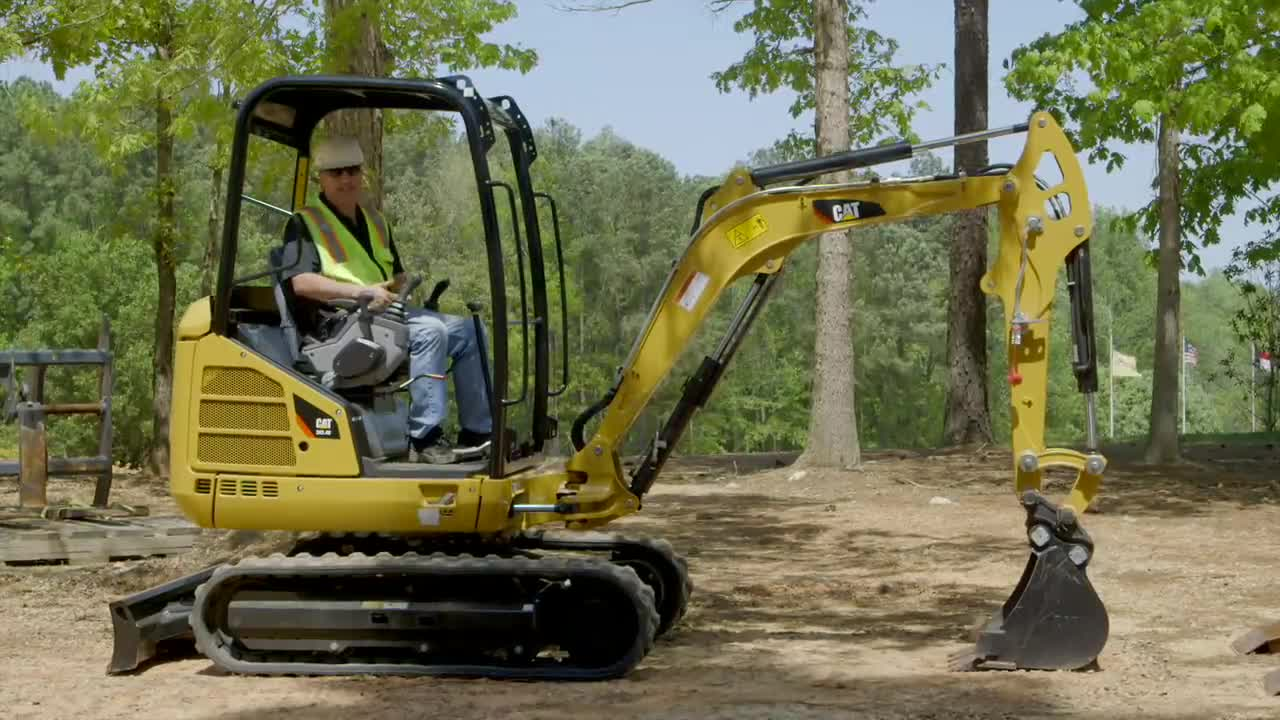attachment-bucket: (947, 498, 1119, 686)
cabin: (168, 70, 569, 525)
forearm: (997, 109, 1103, 514)
upperarm: (568, 170, 1016, 485)
wheelbase: (173, 523, 706, 684)
